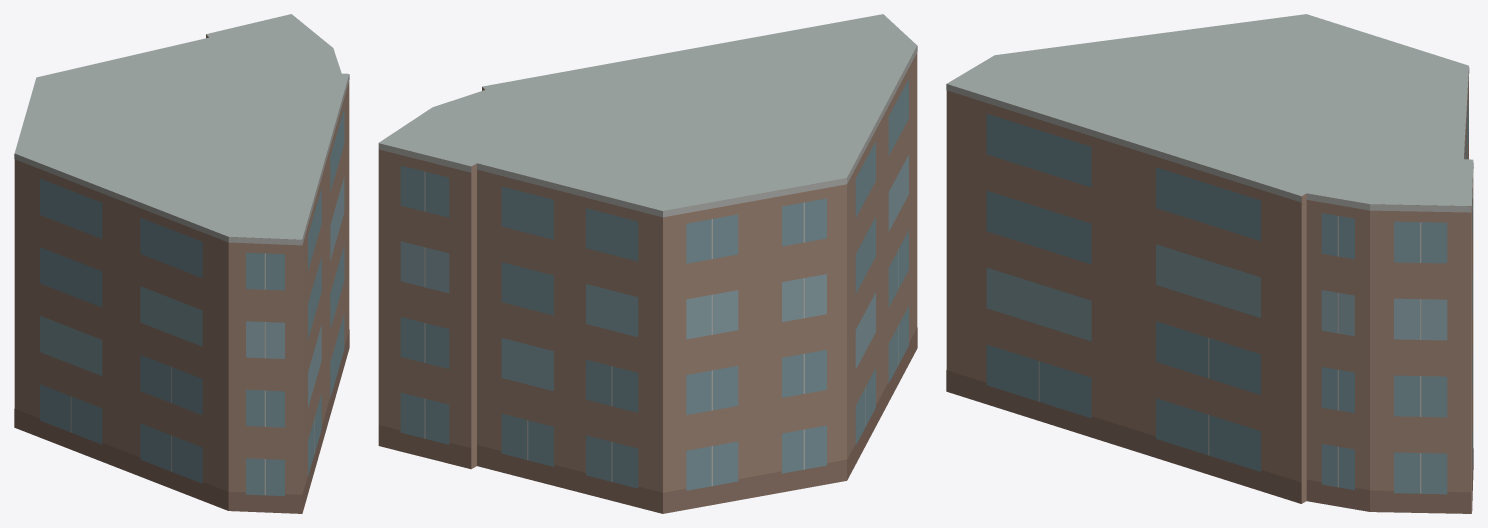
Rendered from survey-upis-32488055.glb.
3 views of the same model, side by side, from view 1: azimuth 30°, elevation 25°; view 2: azimuth 150°, elevation 25°; view 3: azimuth 270°, elevation 25° (orthographic). The views are drawn at different scales.
Parts seen in each view (by area): view 1: survey-upis-32488055.tmp; view 2: survey-upis-32488055.tmp; view 3: survey-upis-32488055.tmp.
Part boxes in pixels (bbox=[...]): survey-upis-32488055.tmp: bbox=[14, 14, 349, 513]; survey-upis-32488055.tmp: bbox=[378, 14, 917, 513]; survey-upis-32488055.tmp: bbox=[946, 14, 1473, 513].
Size of the model in its own units: 15.67 by 11.7 by 18.16.
